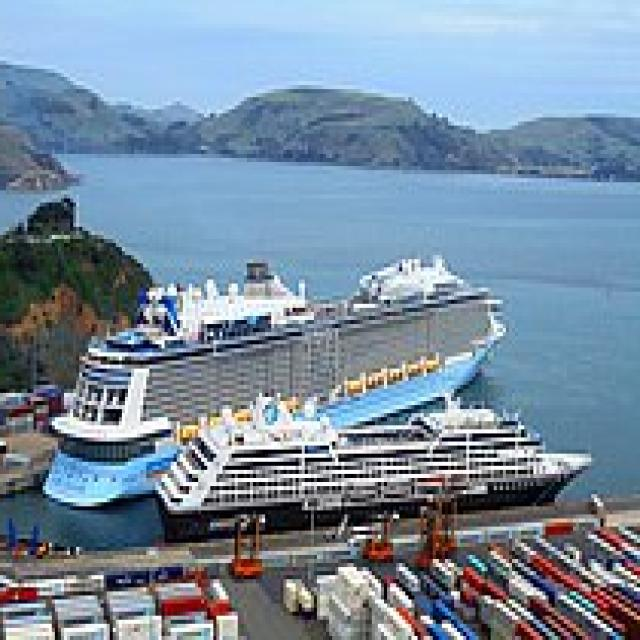Cruise: (43, 247, 515, 510), (152, 372, 604, 542)
